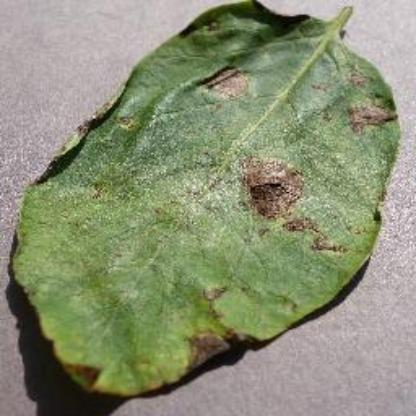Early-Blight: (11, 3, 405, 397)
